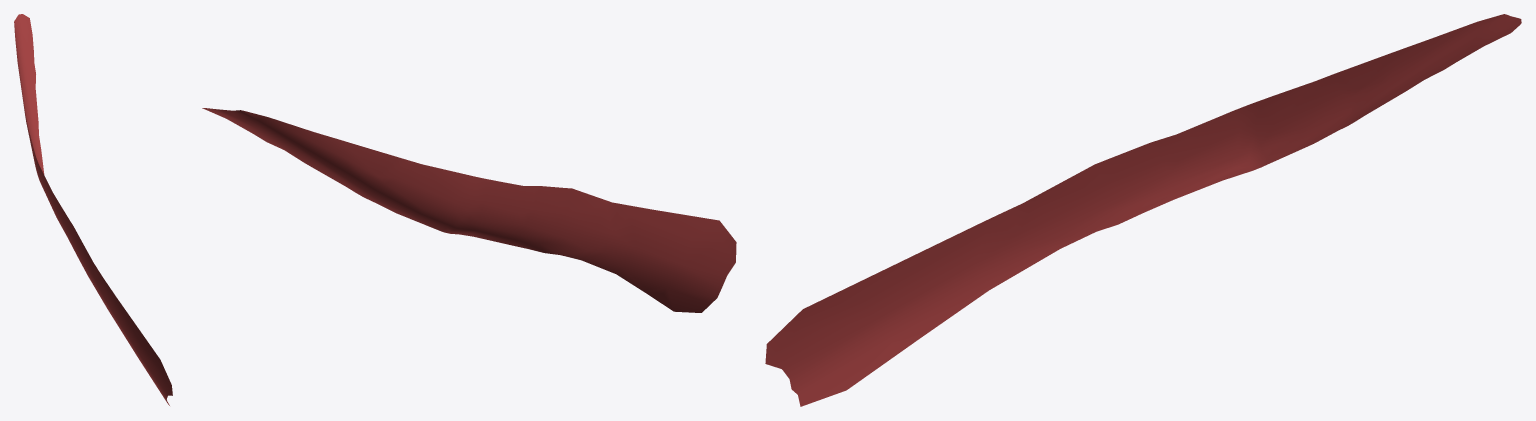
File: external-abdominal-oblique-muscle-o3r.glb
3 views of the same model, side by side, from view 1: azimuth 30°, elevation 25°; view 2: azimuth 150°, elevation 25°; view 3: azimuth 270°, elevation 25° (orthographic). The views are drawn at different scales.
Visible parts, largest first — view 1: External abdominal oblique muscle.o3r; view 2: External abdominal oblique muscle.o3r; view 3: External abdominal oblique muscle.o3r.
Part boxes in pixels (bbox=[...]): External abdominal oblique muscle.o3r: bbox=[14, 14, 172, 405]; External abdominal oblique muscle.o3r: bbox=[202, 108, 736, 312]; External abdominal oblique muscle.o3r: bbox=[765, 14, 1521, 406].
Size of the model in its own units: 0.0101 by 0.032 by 0.0511.
